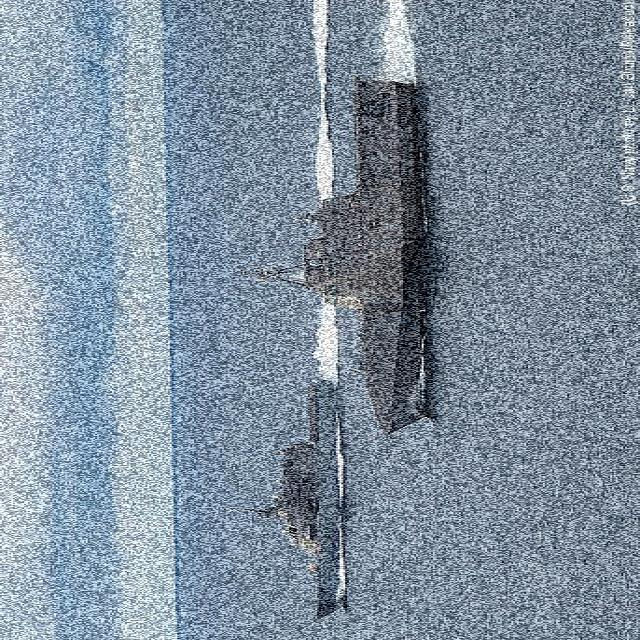ship2: (287, 78, 436, 433), (273, 309, 345, 616)
